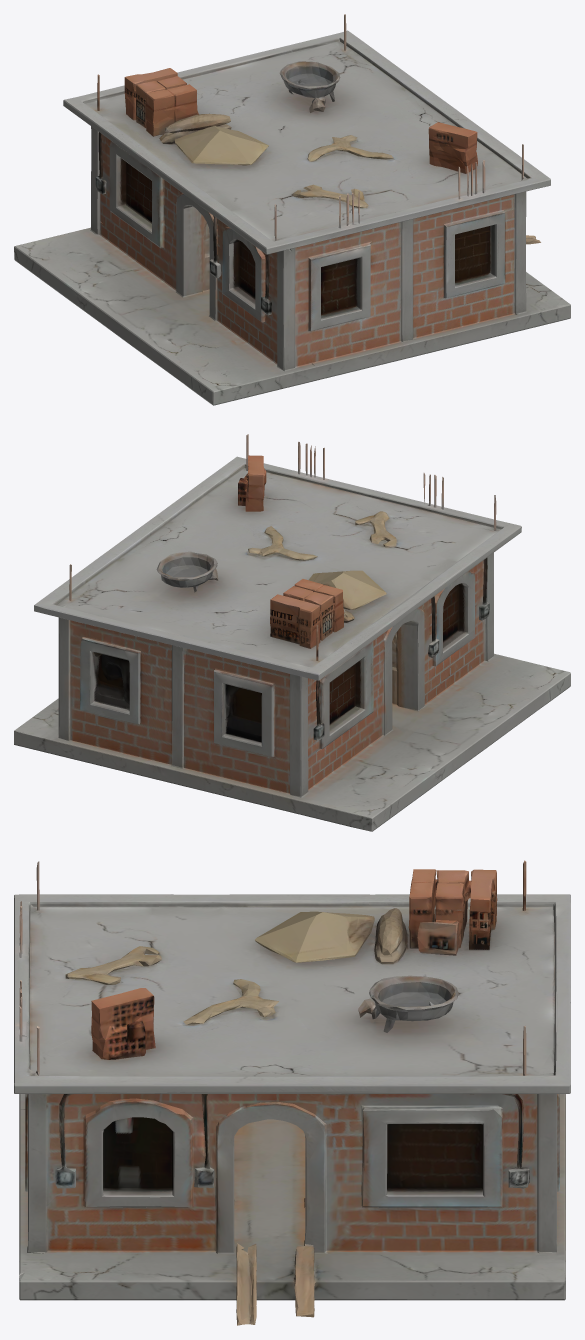
File: casa en obra negra 1.glb
The picture shows the model from 3 angles, top to bottom: view 1: azimuth 30°, elevation 25°; view 2: azimuth 150°, elevation 25°; view 3: azimuth 270°, elevation 25°; orthographic projection. The views are drawn at different scales.
Parts seen in each view (by area): view 1: tripo_node_572c6116-8161-4641-b581-aa75c247292c; view 2: tripo_node_572c6116-8161-4641-b581-aa75c247292c; view 3: tripo_node_572c6116-8161-4641-b581-aa75c247292c.
Boxes of the visible parts, x1,y1,x2,y2 form: tripo_node_572c6116-8161-4641-b581-aa75c247292c: (14, 14, 570, 405); tripo_node_572c6116-8161-4641-b581-aa75c247292c: (14, 434, 570, 831); tripo_node_572c6116-8161-4641-b581-aa75c247292c: (14, 860, 570, 1325).
Size of the model in its own units: 1 by 0.4243 by 0.8615.
Materials: 1 (1 with a texture image).
